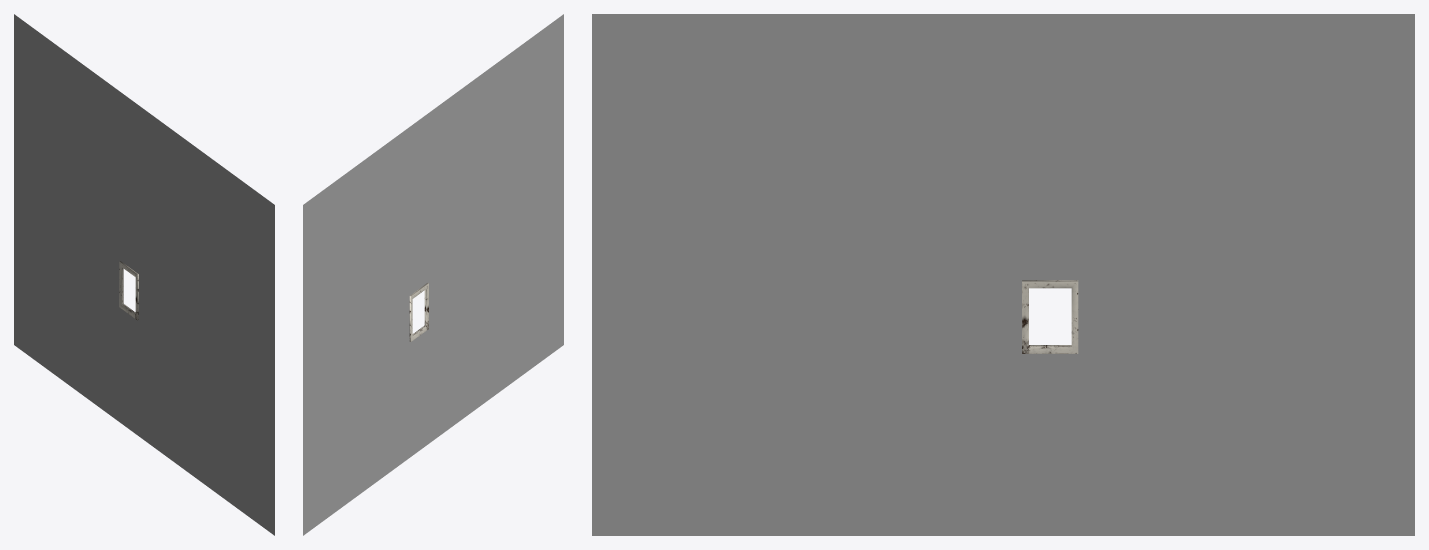
File: mirrorwall.fbx
3 renders of one model, left to right at view 1: azimuth 30°, elevation 25°; view 2: azimuth 150°, elevation 25°; view 3: azimuth 270°, elevation 25°, orthographic. The views are drawn at different scales.
Visible parts, largest first — view 1: floor_ceiling_8b08, Cube; view 2: floor_ceiling_8b08, Cube; view 3: floor_ceiling_8b08, Cube.
Boxes of the visible parts, bbox=[...] form: floor_ceiling_8b08: bbox=[14, 14, 274, 535]; Cube: bbox=[119, 261, 138, 320]; floor_ceiling_8b08: bbox=[303, 14, 563, 535]; Cube: bbox=[409, 283, 428, 341]; floor_ceiling_8b08: bbox=[592, 14, 1414, 535]; Cube: bbox=[1022, 280, 1078, 353].
Bounding box in the file's own units: 5 × 560 × 800.
